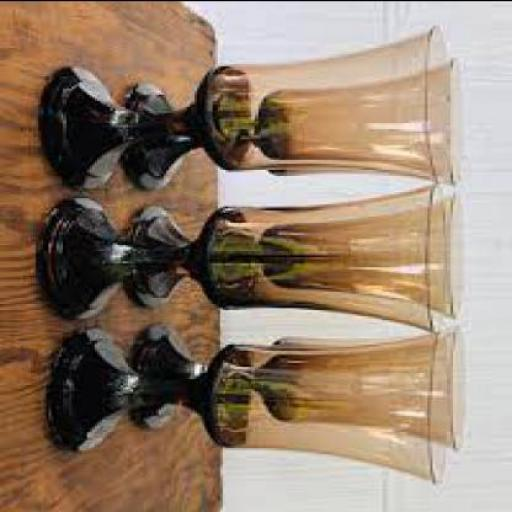glass: (44, 27, 454, 195), (49, 325, 445, 484), (38, 186, 451, 336), (134, 321, 468, 451), (133, 189, 466, 319), (126, 84, 462, 193)
